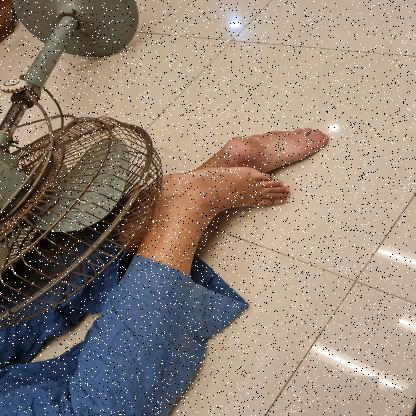leg: (134, 158, 302, 271), (195, 121, 340, 183)
